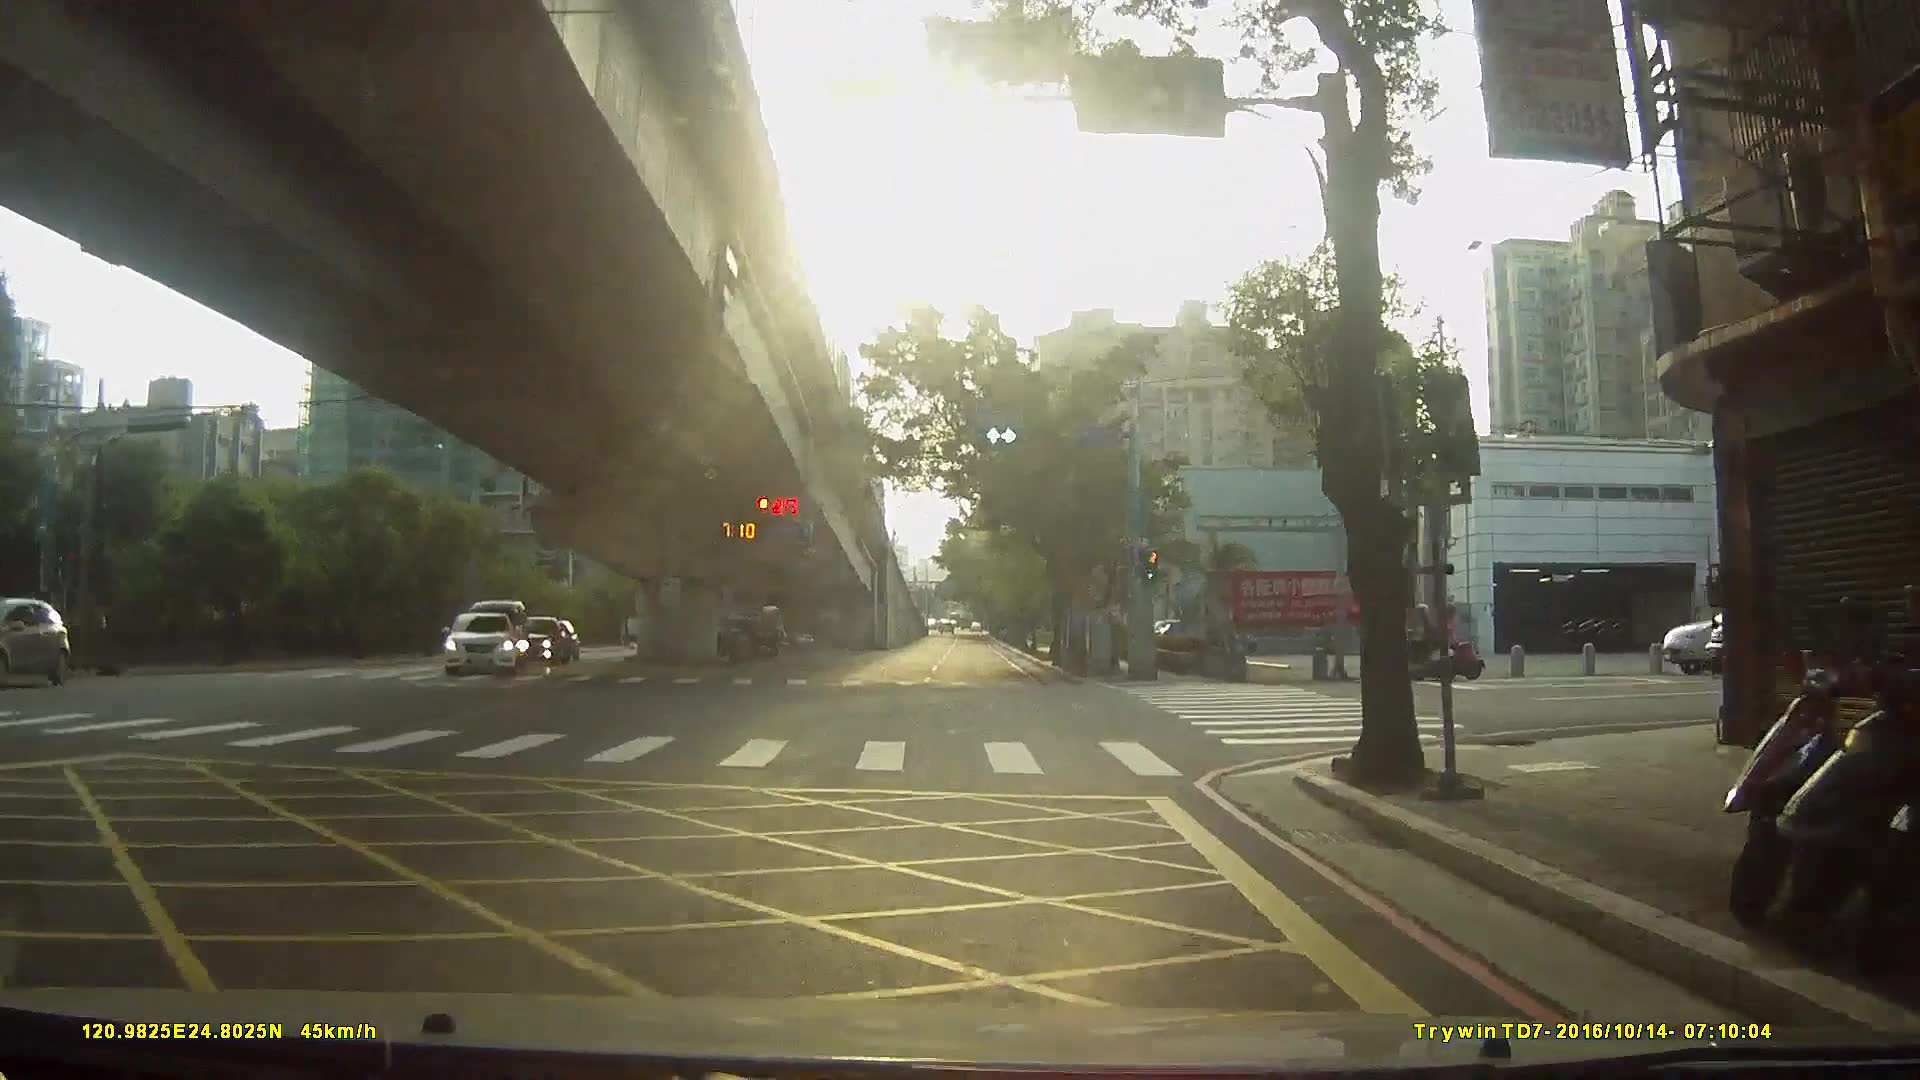rider: (1384, 602, 1460, 682)
vehicle: (1666, 590, 1849, 675), (1, 597, 74, 687), (435, 607, 515, 674), (688, 610, 783, 662), (503, 613, 569, 663)
